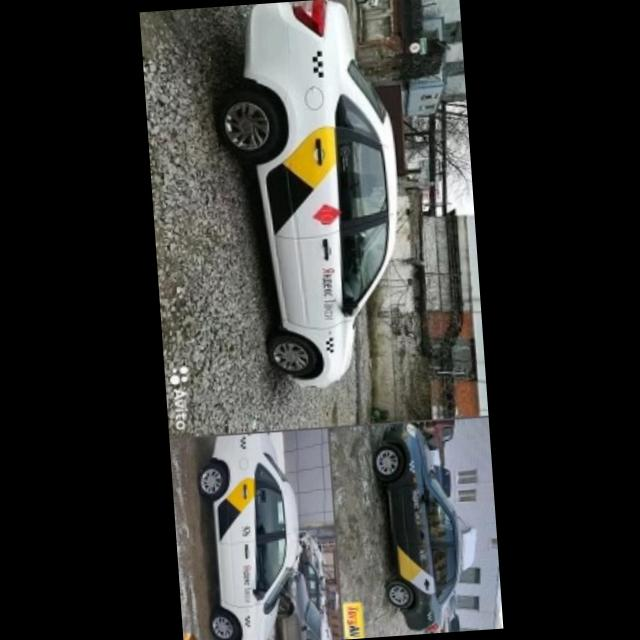taxi: (208, 1, 414, 395), (366, 420, 484, 638), (195, 431, 310, 640)
